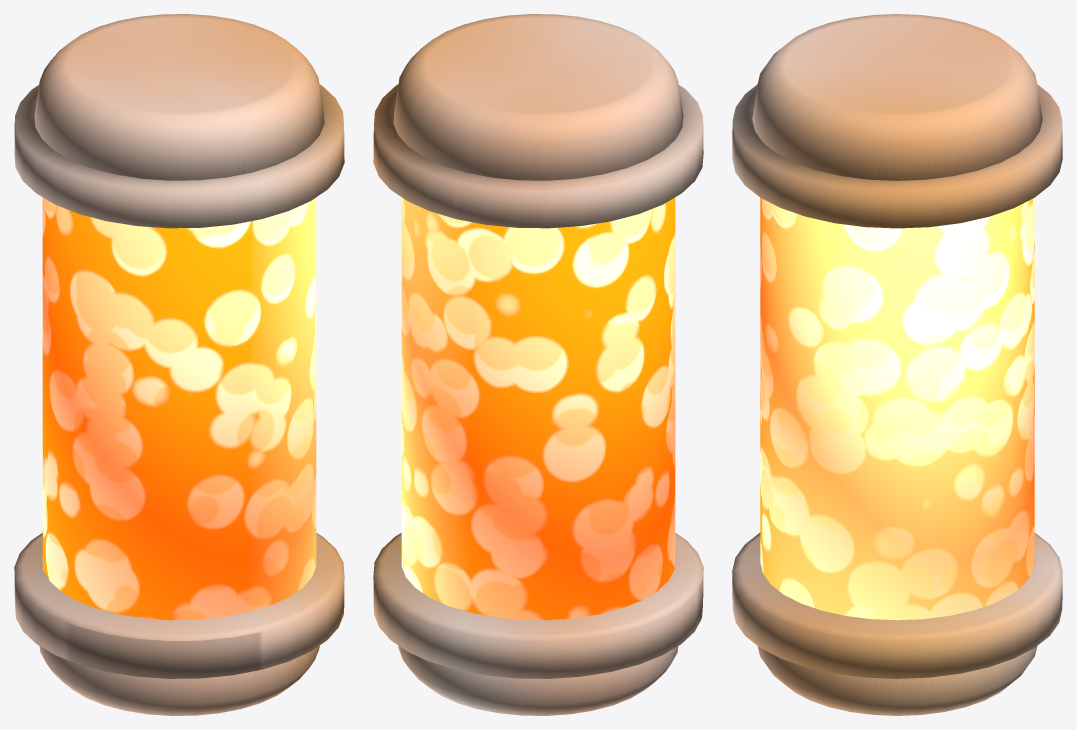
The model's file is ScienceTube.fbx.
3 renders of one model, left to right at view 1: azimuth 30°, elevation 25°; view 2: azimuth 150°, elevation 25°; view 3: azimuth 270°, elevation 25°, orthographic.
Visible parts, largest first — view 1: ScienceTube_LowPoly_Baked; view 2: ScienceTube_LowPoly_Baked; view 3: ScienceTube_LowPoly_Baked.
Part boxes in pixels (bbox=[...]): ScienceTube_LowPoly_Baked: bbox=[14, 14, 344, 715]; ScienceTube_LowPoly_Baked: bbox=[373, 14, 703, 715]; ScienceTube_LowPoly_Baked: bbox=[732, 14, 1062, 715].
Size of the model in its own units: 134 by 267 by 134.
